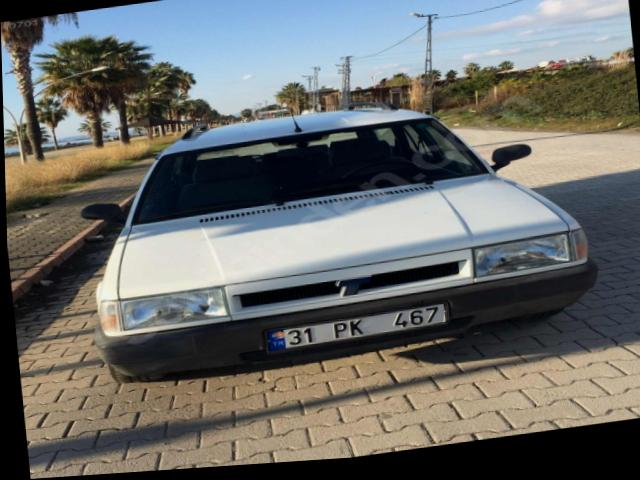plaka: (267, 303, 447, 351)
